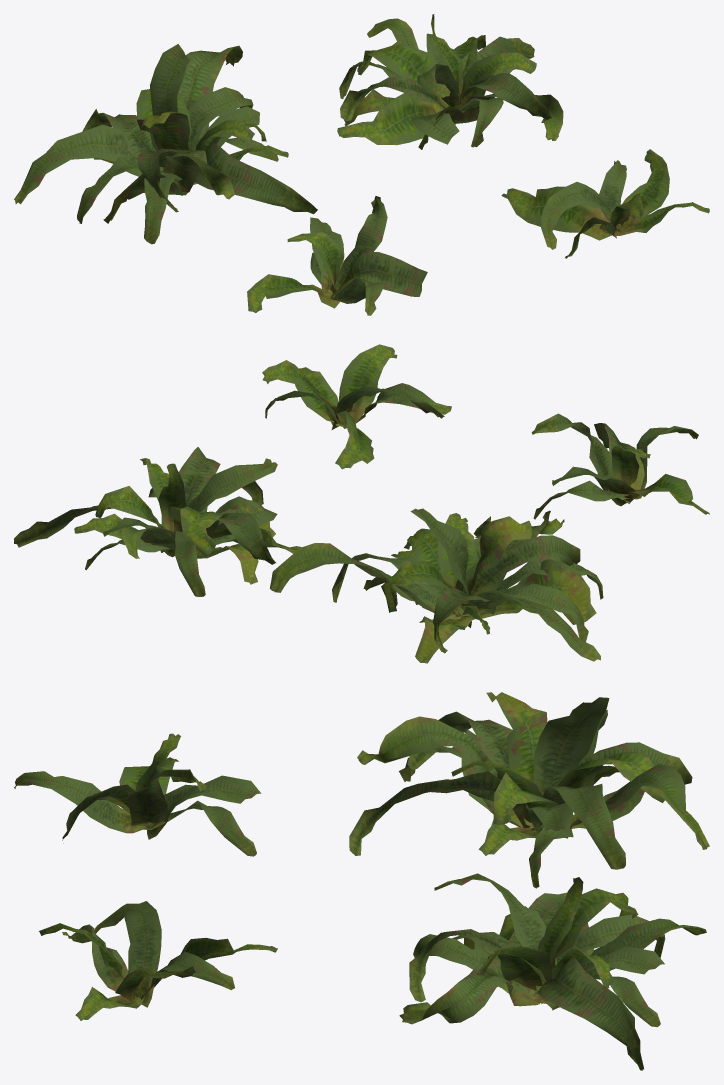
Rendered from fern_02.glb.
3 views of the same model, one above another, from view 1: azimuth 30°, elevation 25°; view 2: azimuth 150°, elevation 25°; view 3: azimuth 270°, elevation 25° (orthographic). The views are drawn at different scales.
Visible parts, largest first — view 1: fern_02_b; view 2: fern_02_b; view 3: fern_02_b.
Part boxes in pixels (left/top/right/bottom): fern_02_b: left=14, top=14, right=709, bottom=315; fern_02_b: left=14, top=344, right=709, bottom=663; fern_02_b: left=14, top=692, right=709, bottom=1070.
Size of the model in its own units: 1.97 by 0.4277 by 1.72.
Materials: 1 (1 with a texture image).
